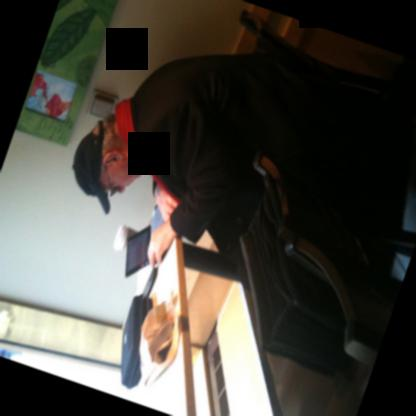suitcase: (235, 191, 349, 384)
